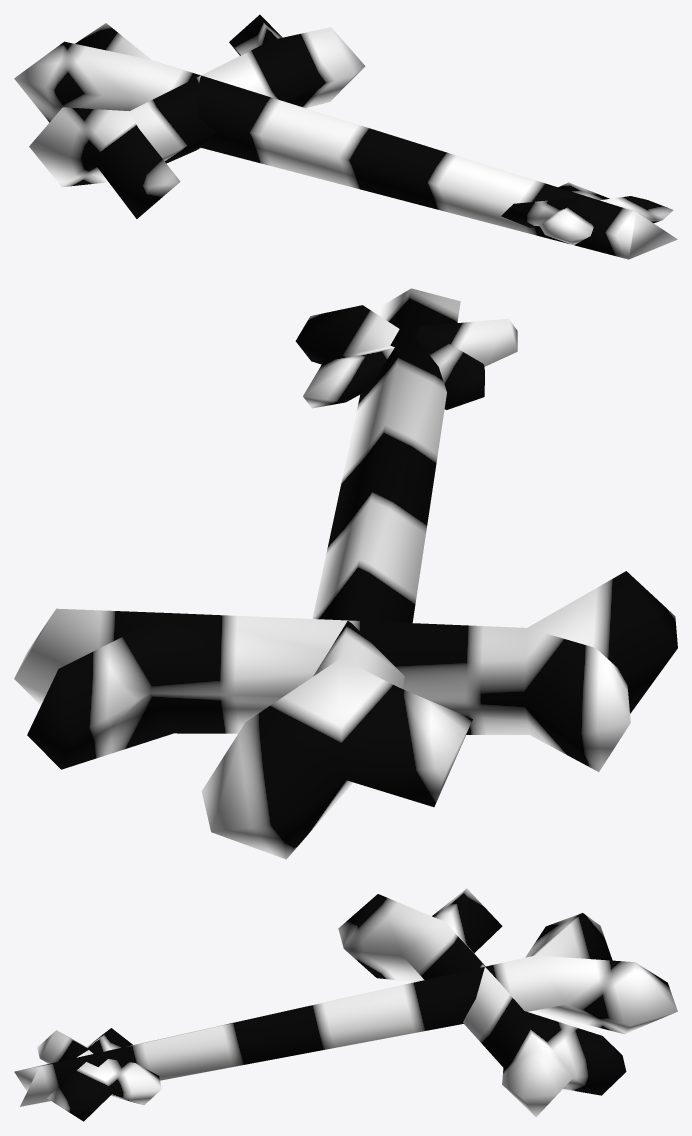
The model's file is initqu55.dae.
3 views of the same model, one above another, from view 1: azimuth 30°, elevation 25°; view 2: azimuth 150°, elevation 25°; view 3: azimuth 270°, elevation 25° (orthographic). The views are drawn at different scales.
Parts seen in each view (by area): view 1: item; view 2: item; view 3: item.
Boxes of the visible parts, x1,y1,x2,y2 form: item: [14, 14, 677, 259]; item: [14, 288, 677, 859]; item: [14, 888, 677, 1121].
Size of the model in its own units: 1.07 by 1.55 by 0.2618.
1 material, 1 textured.
